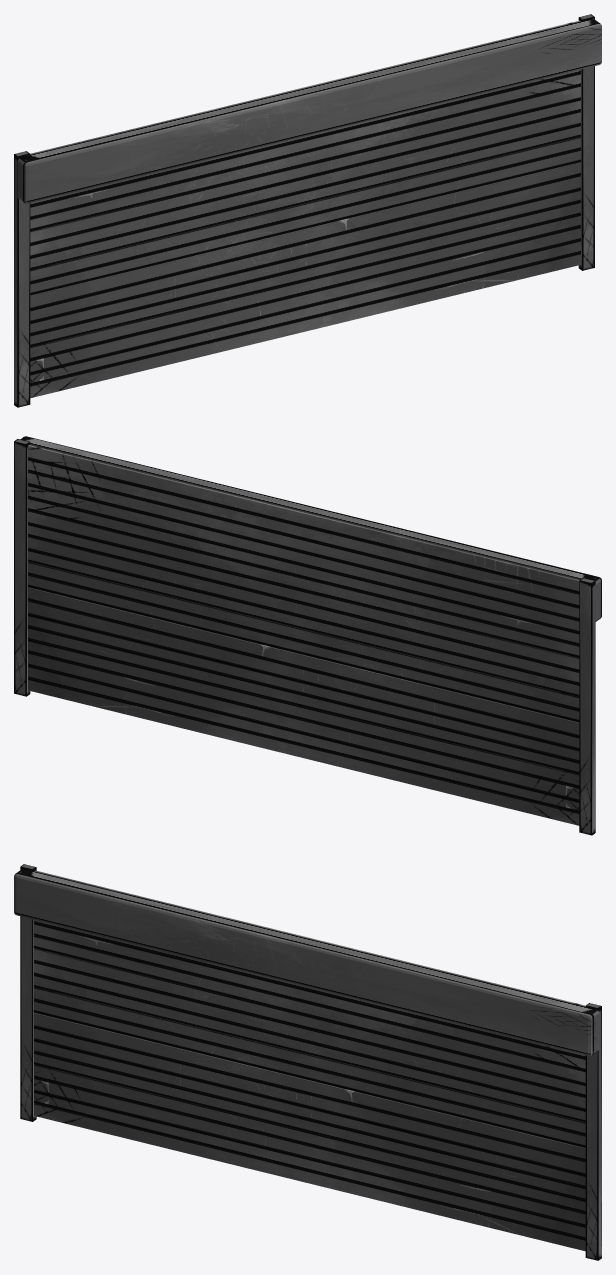
File: cafe_front_roller_shutters.glb
3 views of the same model, one above another, from view 1: azimuth 30°, elevation 25°; view 2: azimuth 150°, elevation 25°; view 3: azimuth 330°, elevation 25° (orthographic).
Visible parts, largest first — view 1: Cube, Cube.001; view 2: Cube, Cube.001; view 3: Cube, Cube.001.
Boxes of the visible parts, <box> form: Cube: <box>30,20,580,398</box>; Cube.001: <box>14,14,601,407</box>; Cube: <box>28,445,579,825</box>; Cube.001: <box>14,436,601,835</box>; Cube: <box>34,870,585,1251</box>; Cube.001: <box>14,864,601,1260</box>.
Size of the model in its own units: 97.59 by 40.54 by 3.54.
Materials: 1 (1 with a texture image).
